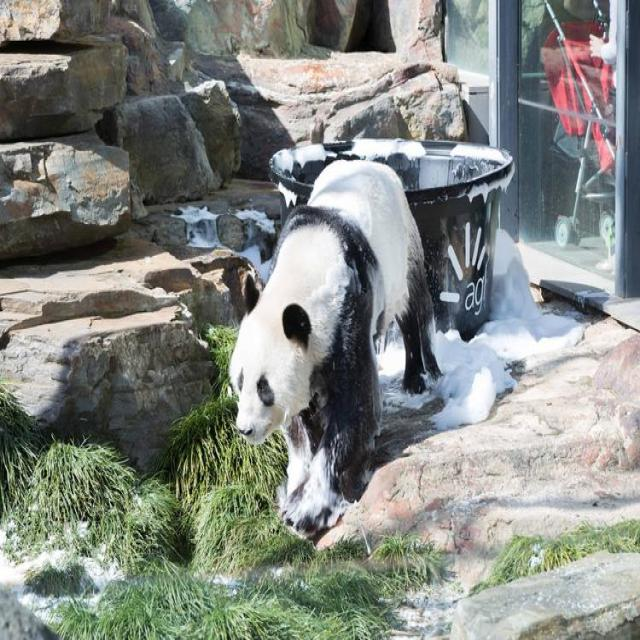panda: (223, 151, 445, 549)
